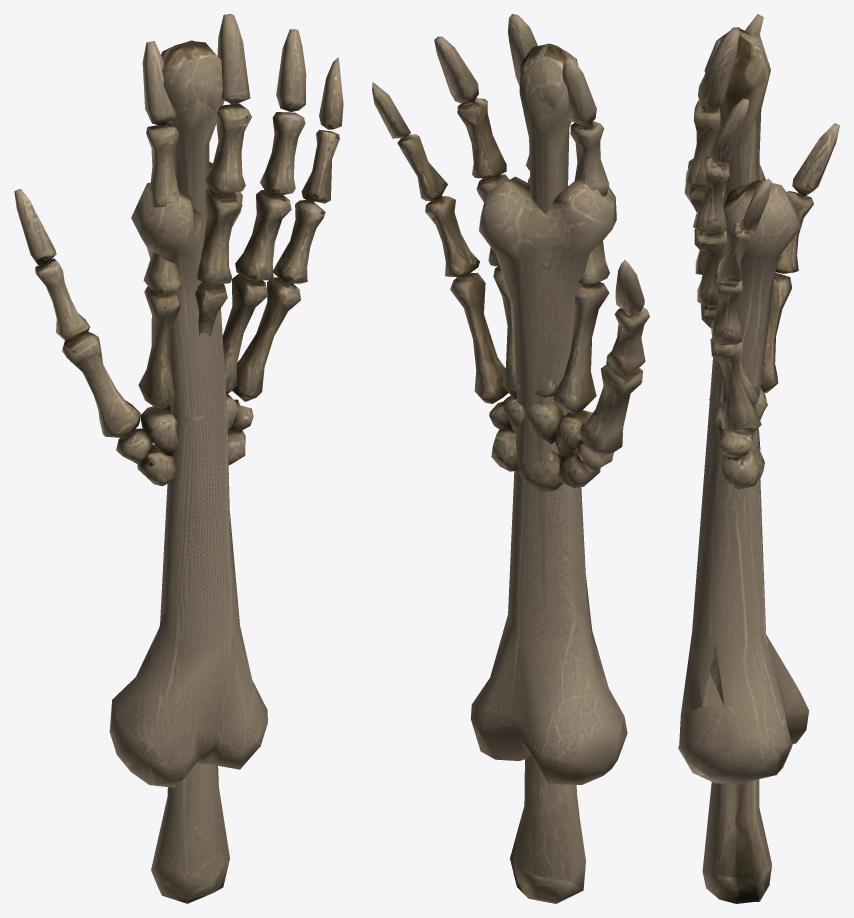
File: bone-hand-right.glb
The picture shows the model from 3 angles, left to right: view 1: azimuth 30°, elevation 25°; view 2: azimuth 150°, elevation 25°; view 3: azimuth 270°, elevation 25°; orthographic projection. The views are drawn at different scales.
Visible parts, largest first — view 1: arm_humerus, arm_radius, palm_meta_thumb, palm_meta_pinky, palm_meta_index, finger_middle, finger_ring, finger_middle_pip, palm_meta_ring, finger_ring_pip, finger_pinky, finger_middle_dip (+12 smaller); view 2: arm_humerus, arm_radius, palm_meta_index, palm_meta_pinky, palm_meta_thumb, finger_ring_pip, finger_pinky, finger_thumb, finger_index_pip, finger_ring_dip, finger_pinky_pip, finger_index_dip (+12 smaller); view 3: arm_humerus, arm_radius, palm_meta_pinky, finger_middle_dip, finger_ring_pip, finger_middle_pip, finger_ring, finger_pinky, palm_meta_thumb, finger_thumb_ip, finger_ring_dip, finger_pinky_pip (+7 smaller).
Part boxes in pixels (left/top/right/bottom): arm_humerus: left=109, top=162, right=267, bottom=787; arm_radius: left=151, top=41, right=229, bottom=903; palm_meta_thumb: left=62, top=331, right=140, bottom=438; palm_meta_pinky: left=232, top=277, right=300, bottom=401; palm_meta_index: left=138, top=286, right=180, bottom=410; finger_middle: left=197, top=189, right=242, bottom=285; finger_ring: left=235, top=190, right=291, bottom=280; finger_middle_pip: left=205, top=103, right=251, bottom=192; palm_meta_ring: left=222, top=274, right=268, bottom=394; finger_ring_pip: left=260, top=112, right=305, bottom=195; finger_pinky: left=273, top=200, right=325, bottom=283; finger_middle_dip: left=217, top=14, right=250, bottom=105; arm_humerus: left=470, top=176, right=627, bottom=784; arm_radius: left=510, top=43, right=585, bottom=903; palm_meta_index: left=553, top=282, right=609, bottom=415; palm_meta_pinky: left=450, top=272, right=508, bottom=403; palm_meta_thumb: left=581, top=364, right=642, bottom=456; finger_ring_pip: left=457, top=98, right=506, bottom=178; finger_pinky: left=425, top=196, right=479, bottom=277; finger_thumb: left=606, top=307, right=649, bottom=374; finger_index_pip: left=570, top=121, right=609, bottom=196; finger_ring_dip: left=434, top=36, right=478, bottom=102; finger_pinky_pip: left=397, top=134, right=447, bottom=200; finger_index_dip: left=562, top=57, right=596, bottom=126; arm_humerus: left=678, top=158, right=809, bottom=784; arm_radius: left=702, top=27, right=771, bottom=903; palm_meta_pinky: left=710, top=334, right=761, bottom=435; finger_middle_dip: left=698, top=27, right=739, bottom=109; finger_ring_pip: left=693, top=156, right=729, bottom=234; finger_middle_pip: left=685, top=100, right=720, bottom=189; finger_ring: left=694, top=229, right=727, bottom=307; finger_pinky: left=710, top=274, right=742, bottom=344; palm_meta_thumb: left=761, top=273, right=791, bottom=393; finger_thumb_ip: left=792, top=123, right=839, bottom=196; finger_ring_dip: left=710, top=98, right=748, bottom=166; finger_pinky_pip: left=717, top=222, right=750, bottom=283.
Bounding box in the file's own units: 0.1781 × 0.511 × 0.0841.
Materials: 30 (30 with a texture image).
